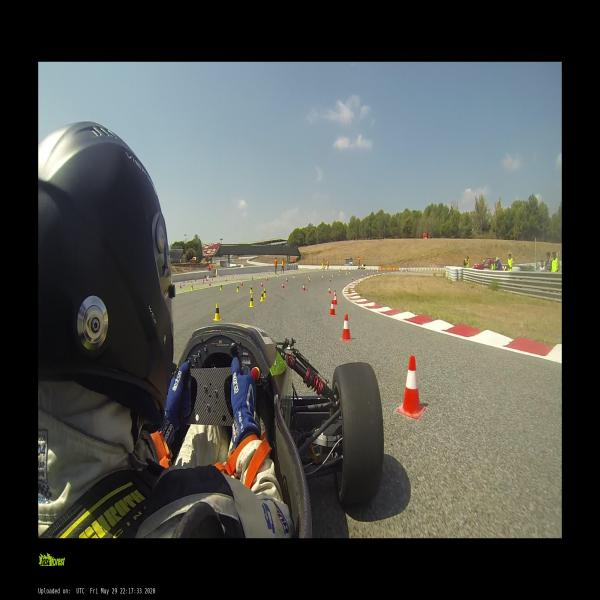orange_cone: (396, 355, 426, 419), (340, 314, 352, 342), (329, 300, 336, 316), (333, 294, 337, 305), (333, 290, 337, 298), (329, 277, 332, 282), (328, 287, 330, 294), (303, 284, 305, 291), (282, 282, 284, 289), (261, 282, 263, 288), (308, 278, 311, 282), (266, 276, 268, 282), (351, 276, 353, 281), (286, 277, 288, 282), (209, 281, 211, 286), (241, 280, 242, 286), (362, 274, 363, 278), (252, 276, 253, 280)
yellow_cone: (214, 304, 222, 320), (249, 295, 254, 307), (260, 291, 264, 302), (263, 288, 266, 297), (250, 286, 253, 294), (236, 284, 239, 292), (220, 284, 222, 291), (191, 284, 193, 290), (338, 271, 340, 276), (293, 273, 295, 278), (268, 272, 270, 276), (322, 273, 323, 278), (332, 272, 333, 277), (277, 273, 278, 278), (259, 274, 260, 278)
